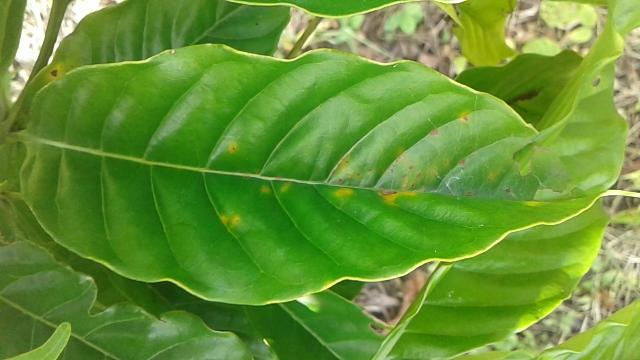rust_level_1: (18, 42, 640, 308)
